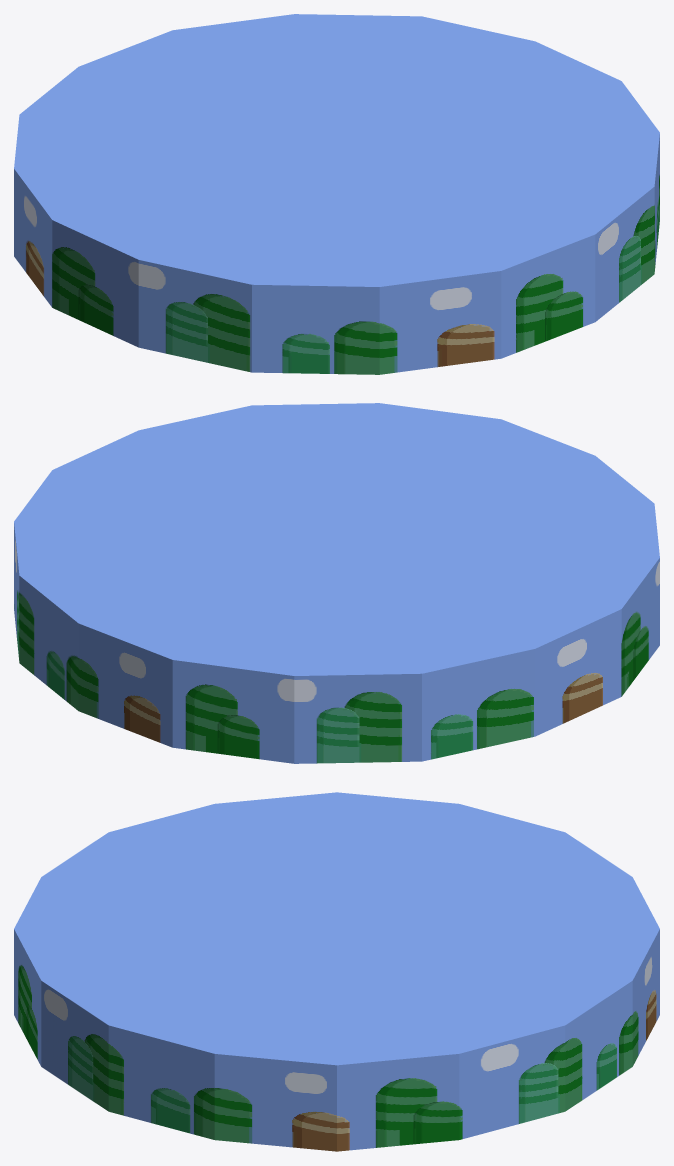
File: old_donut_sfc-old_donut_sfc_V.glb
3 renders of one model, top to bottom at view 1: azimuth 30°, elevation 25°; view 2: azimuth 150°, elevation 25°; view 3: azimuth 270°, elevation 25°, orthographic.
Visible parts, largest first — view 1: old_donut_sfc_V; view 2: old_donut_sfc_V; view 3: old_donut_sfc_V.
Part boxes in pixels (bbox=[...]): old_donut_sfc_V: bbox=[14, 14, 659, 374]; old_donut_sfc_V: bbox=[14, 403, 659, 763]; old_donut_sfc_V: bbox=[14, 792, 659, 1151].
Size of the model in its own units: 962 by 142 by 962.
Materials: 2 (2 with a texture image).
